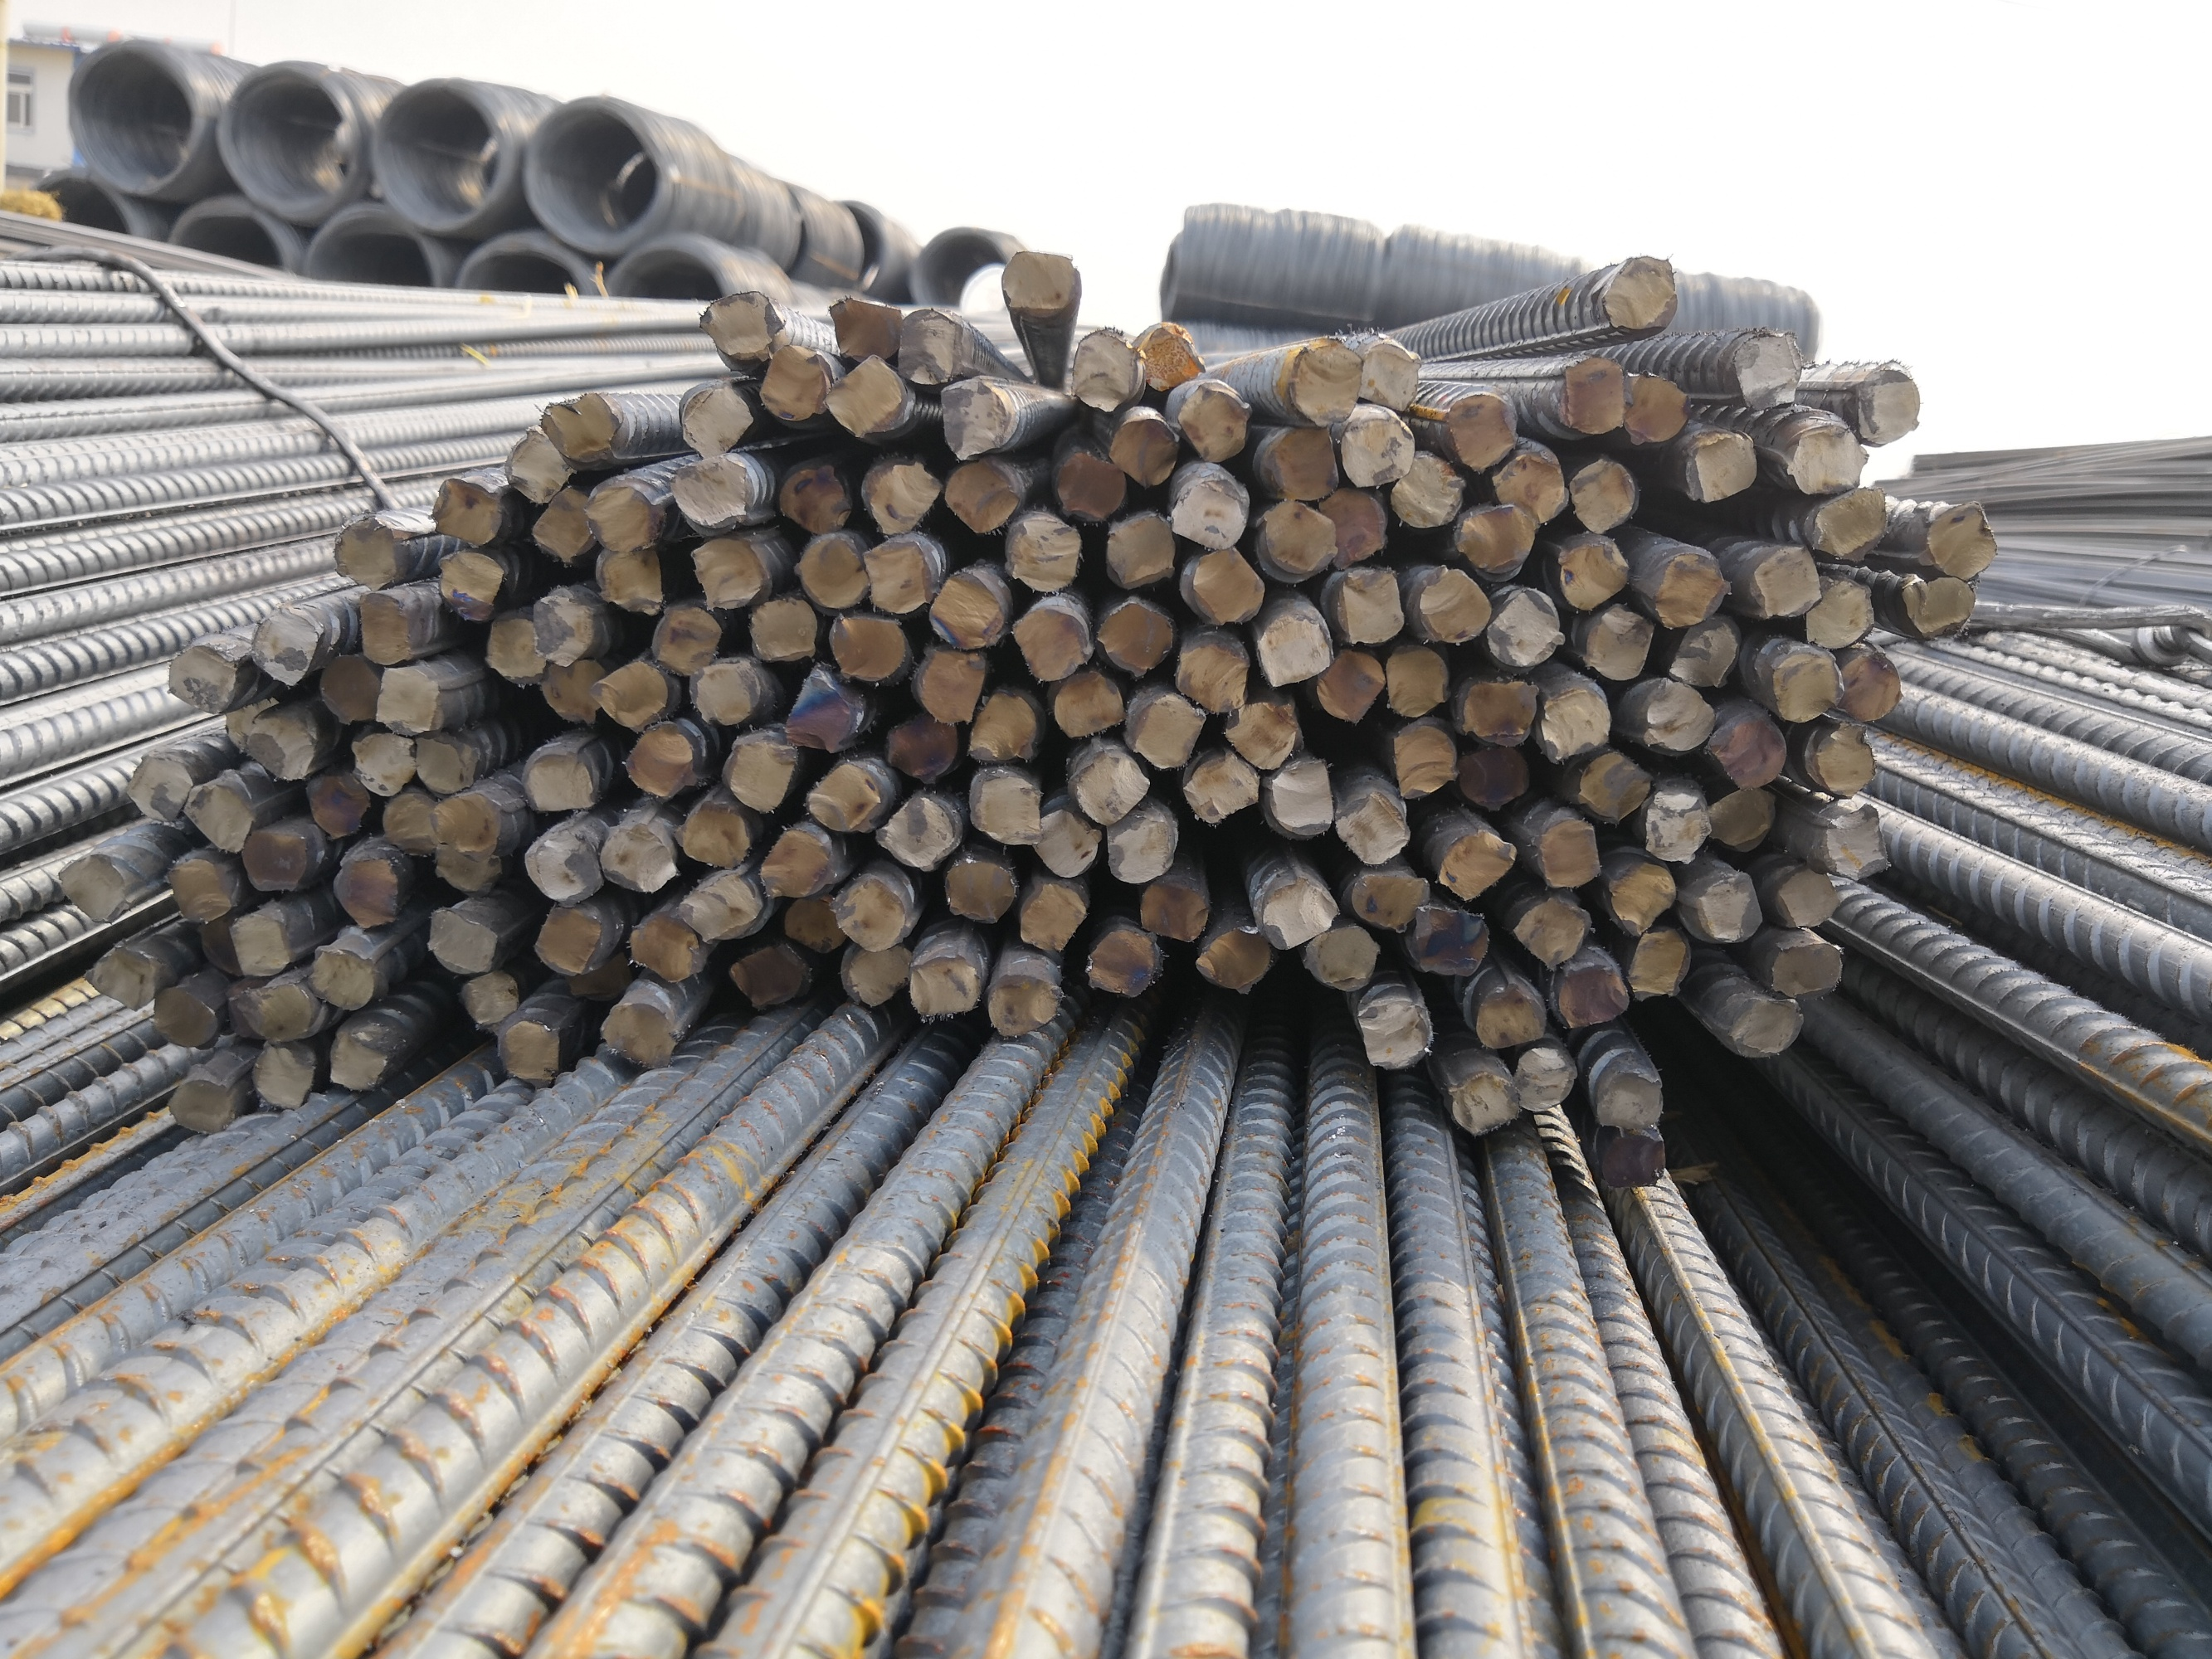rebar: (1703, 695, 1792, 795), (1279, 333, 1368, 430), (924, 556, 1009, 655), (666, 448, 765, 532), (1164, 462, 1255, 552), (823, 350, 919, 436), (1483, 579, 1569, 673), (1436, 380, 1520, 476), (1095, 592, 1182, 683), (1327, 781, 1417, 868), (1598, 247, 1684, 340), (779, 653, 856, 756), (1778, 416, 1874, 498), (852, 532, 940, 620), (1008, 596, 1095, 685), (1260, 415, 1347, 504), (1762, 640, 1849, 728), (1487, 441, 1571, 533), (575, 477, 673, 556), (1184, 537, 1267, 627), (1384, 444, 1468, 535), (1802, 484, 1893, 568), (1923, 491, 2005, 584), (1562, 446, 1642, 540), (1184, 918, 1279, 997), (521, 894, 608, 979), (755, 816, 842, 901), (1001, 511, 1086, 598), (1548, 352, 1633, 439), (1649, 545, 1736, 631), (1633, 671, 1720, 756), (1379, 716, 1462, 805), (877, 784, 955, 878), (1124, 687, 1210, 772), (1349, 986, 1435, 1072), (1257, 497, 1340, 584), (1433, 823, 1520, 906), (941, 450, 1023, 538), (1065, 748, 1154, 829), (1255, 870, 1344, 951), (1339, 401, 1419, 491), (1313, 481, 1389, 575), (1170, 633, 1255, 716), (1255, 606, 1339, 692), (1576, 741, 1659, 826), (593, 812, 675, 899), (1175, 376, 1257, 464), (1401, 899, 1489, 981), (966, 763, 1046, 852), (1848, 361, 1928, 450), (1344, 856, 1435, 934), (913, 636, 990, 728), (1349, 326, 1426, 418), (242, 603, 324, 688), (863, 455, 945, 540), (1553, 526, 1633, 613), (682, 533, 770, 612), (818, 288, 906, 366), (1743, 537, 1822, 626), (1327, 566, 1410, 648), (1454, 497, 1537, 579), (1529, 680, 1611, 763), (1801, 568, 1881, 653), (329, 847, 408, 934), (518, 828, 605, 906), (1727, 322, 1804, 411), (669, 385, 760, 460), (1264, 751, 1339, 842), (894, 298, 967, 390), (722, 943, 816, 1014), (1410, 565, 1492, 647), (537, 387, 621, 467), (830, 871, 910, 955), (1529, 809, 1609, 892), (235, 709, 321, 788), (793, 530, 872, 615), (1457, 673, 1543, 751), (675, 871, 762, 948), (757, 340, 833, 427), (933, 375, 1009, 462), (1098, 800, 1175, 887), (1818, 795, 1895, 882), (1295, 922, 1384, 997), (964, 685, 1042, 769), (1511, 887, 1595, 965), (1311, 643, 1388, 728), (51, 852, 138, 927), (823, 608, 910, 683), (1640, 779, 1715, 866), (1072, 321, 1140, 416), (697, 289, 790, 359), (1105, 410, 1185, 490), (1618, 925, 1698, 1006), (587, 542, 671, 619), (1832, 643, 1905, 730), (774, 462, 854, 540), (1100, 511, 1180, 589), (1590, 1054, 1668, 1134), (671, 796, 753, 873), (805, 753, 882, 835), (1028, 800, 1105, 882), (1178, 751, 1260, 828), (587, 657, 671, 732), (901, 948, 985, 1023), (1048, 667, 1131, 742), (1607, 852, 1680, 938), (1694, 864, 1768, 950), (1893, 568, 1978, 641), (1717, 995, 1808, 1063), (1051, 446, 1130, 525), (159, 641, 239, 718), (1224, 695, 1304, 772), (1377, 640, 1454, 720), (326, 511, 401, 592), (723, 732, 798, 814), (880, 706, 962, 781), (420, 903, 504, 976), (1082, 927, 1166, 1000), (997, 242, 1081, 315), (1619, 362, 1693, 446), (647, 601, 725, 678), (1578, 605, 1656, 681), (1471, 974, 1550, 1051), (1555, 955, 1633, 1032), (180, 779, 254, 859), (619, 725, 699, 800), (1668, 613, 1743, 694), (1454, 741, 1536, 814), (502, 423, 573, 507), (528, 483, 598, 568), (1764, 934, 1849, 1004), (837, 934, 913, 1011), (431, 791, 509, 866), (432, 547, 507, 626), (1686, 427, 1761, 505), (425, 477, 506, 551), (596, 1000, 676, 1073), (1137, 866, 1210, 946), (1808, 716, 1879, 798), (77, 945, 160, 1014), (514, 748, 600, 816), (310, 652, 385, 728), (626, 910, 701, 986), (943, 852, 1020, 927), (370, 662, 443, 741), (296, 770, 375, 843), (1014, 878, 1088, 957), (1131, 319, 1210, 392), (980, 974, 1069, 1039), (1442, 1066, 1523, 1136), (235, 824, 310, 899), (155, 854, 232, 927), (343, 725, 420, 798), (741, 596, 821, 666), (1773, 857, 1842, 938), (525, 587, 593, 669), (120, 751, 193, 826), (1595, 1119, 1672, 1190), (1706, 779, 1778, 856), (303, 941, 380, 1012), (234, 983, 317, 1047), (1510, 1040, 1581, 1115), (223, 910, 298, 979), (492, 1016, 563, 1087), (350, 584, 411, 667), (248, 1044, 317, 1115), (689, 657, 762, 725), (145, 986, 221, 1051), (162, 1072, 237, 1136), (377, 784, 441, 859), (483, 608, 546, 685), (777, 889, 851, 953), (537, 657, 605, 725), (406, 730, 476, 796), (556, 951, 640, 1006), (324, 1026, 392, 1093), (455, 969, 526, 1030), (214, 695, 284, 755), (190, 913, 246, 985), (432, 843, 500, 894), (216, 981, 268, 1042)
